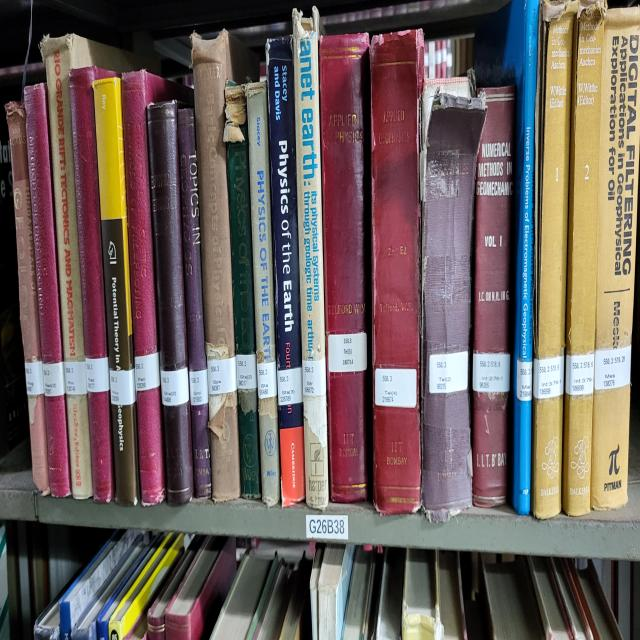Book: (40, 35, 139, 498), (474, 0, 539, 514), (191, 30, 259, 501), (121, 70, 192, 506), (421, 76, 488, 519), (370, 30, 424, 514), (590, 8, 640, 509), (531, 0, 578, 519), (320, 32, 369, 501), (562, 0, 606, 517), (94, 78, 140, 506), (25, 84, 71, 498), (148, 100, 194, 503), (292, 8, 329, 509), (266, 41, 305, 506), (472, 87, 515, 506), (6, 103, 50, 495), (224, 81, 260, 498), (245, 81, 280, 506), (69, 68, 115, 357), (178, 108, 211, 498)
Label: (375, 368, 416, 409), (594, 346, 631, 390), (328, 333, 368, 373), (429, 352, 469, 392), (472, 352, 510, 392), (532, 354, 564, 400), (565, 352, 594, 395), (160, 368, 189, 406), (208, 357, 236, 395), (135, 352, 160, 392), (110, 368, 136, 406), (278, 365, 302, 406), (302, 357, 326, 395), (85, 357, 110, 392), (64, 360, 88, 395), (42, 363, 65, 398), (258, 360, 278, 400), (236, 354, 258, 390), (189, 368, 209, 406), (25, 360, 44, 395), (516, 360, 532, 400)
